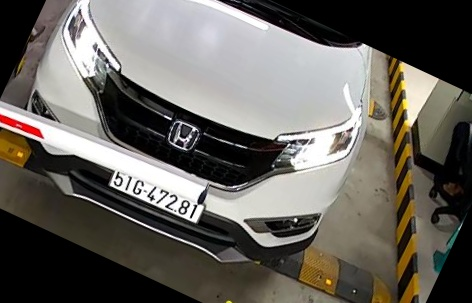plate: (102, 165, 208, 227)
